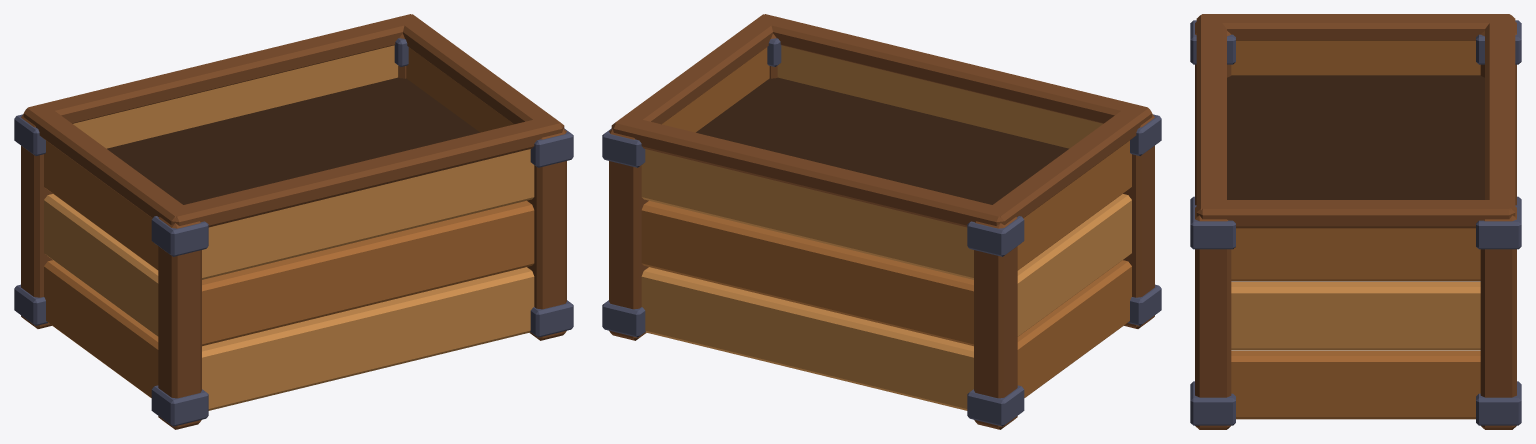
Rendered from myw_shopbox.glb.
The picture shows the model from 3 angles, left to right: view 1: azimuth 30°, elevation 25°; view 2: azimuth 150°, elevation 25°; view 3: azimuth 270°, elevation 25°; orthographic projection. The views are drawn at different scales.
Visible parts, largest first — view 1: Planks, Frame, Inside, Iron; view 2: Planks, Frame, Inside, Iron; view 3: Planks, Frame, Inside, Iron.
Boxes of the visible parts, <box> form: Planks: <box>44,45,534,410</box>; Frame: <box>21,14,566,429</box>; Inside: <box>107,77,479,204</box>; Iron: <box>14,38,573,426</box>; Planks: <box>641,45,1131,410</box>; Frame: <box>609,14,1154,429</box>; Inside: <box>696,77,1068,204</box>; Iron: <box>602,38,1161,426</box>; Planks: <box>1231,40,1480,419</box>; Frame: <box>1195,14,1516,429</box>; Inside: <box>1227,75,1484,199</box>; Iron: <box>1190,20,1521,425</box>.
Bounding box in the file's own units: 3.18 × 1.6 × 2.18.
